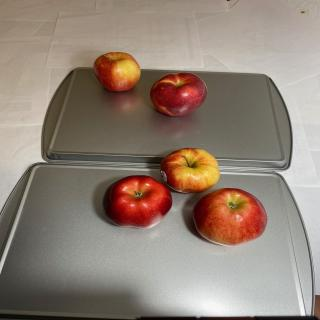Apple: (192, 188, 268, 247), (102, 175, 172, 229), (160, 148, 220, 194), (150, 72, 207, 117), (93, 51, 141, 92)
